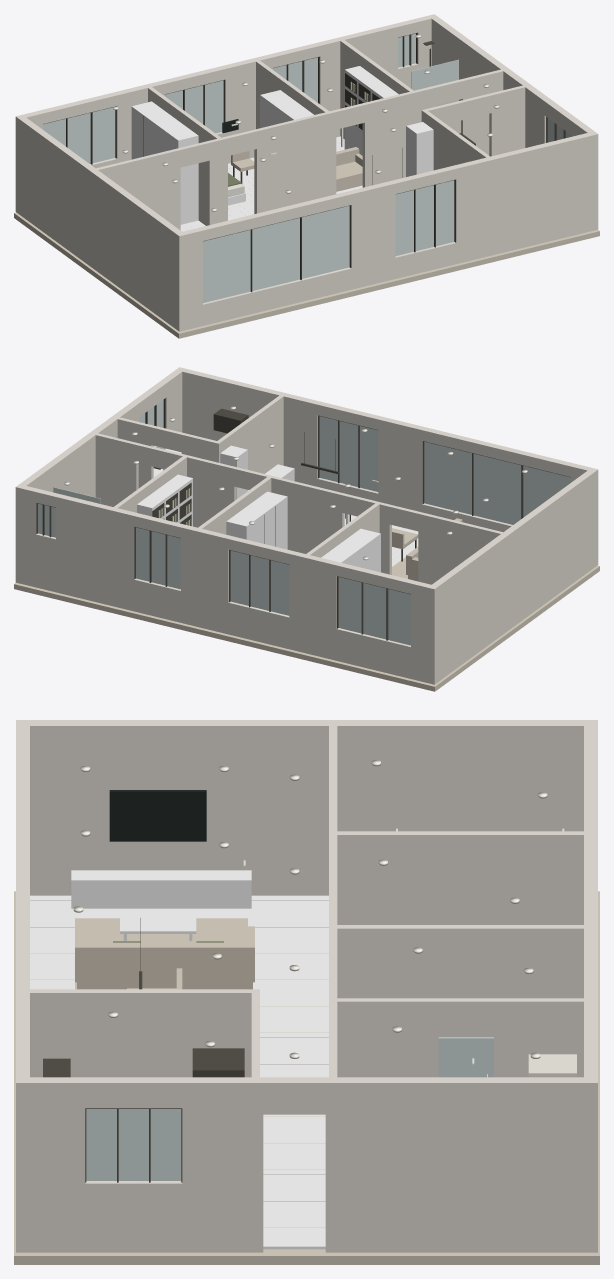
Rendered from qimu-home.glb.
3 renders of one model, top to bottom at view 1: azimuth 30°, elevation 25°; view 2: azimuth 150°, elevation 25°; view 3: azimuth 270°, elevation 25°, orthographic. The views are drawn at different scales.
Visible parts, largest first — view 1: W03, W01.006, WIN01 glazing, W05.004, foundation, W05.006, W01.003, J01, W05, WIN02 glazing, W01.001, W02.009 (+37 smaller); view 2: W03, W02.009, WIN01 glazing, W01.006, W02.006, W02.003, foundation, W01.003, WIN03 glazing, W05.004, WIN02 glazing, W05 (+40 smaller); view 3: W03, W04.005, W06, R07 floor, W07, W09, W08, W04.003, W04, foundation, W04.001, J05 (+19 smaller).
Part boxes in pixels (<box>): W03: <box>19,117,181,328</box>; W01.006: <box>453,131,598,263</box>; WIN01 glazing: <box>203,206,349,302</box>; W05.004: <box>254,110,336,213</box>; foundation: <box>14,212,599,338</box>; W05.006: <box>362,86,435,187</box>; W01.003: <box>348,180,395,289</box>; J01: <box>131,101,198,224</box>; W05: <box>96,148,180,230</box>; WIN02 glazing: <box>395,180,454,255</box>; W01.001: <box>203,268,351,325</box>; W02.009: <box>316,24,397,137</box>; W03: <box>432,470,594,681</box>; W02.009: <box>56,494,137,611</box>; WIN01 glazing: <box>424,441,570,524</box>; W01.006: <box>176,367,320,486</box>; W02.006: <box>181,524,231,634</box>; W02.003: <box>289,551,339,660</box>; foundation: <box>14,565,599,691</box>; W01.003: <box>378,416,425,512</box>; WIN03 glazing: <box>338,577,410,645</box>; W05.004: <box>263,474,344,553</box>; WIN02 glazing: <box>319,416,378,491</box>; W05: <box>418,512,502,584</box>; W03: <box>30,720,583,895</box>; W04.005: <box>325,1077,583,1252</box>; W06: <box>337,831,583,924</box>; R07 floor: <box>260,895,328,1249</box>; W07: <box>337,925,583,998</box>; W09: <box>30,989,259,1077</box>; W08: <box>337,998,583,1077</box>; W04.003: <box>182,1077,263,1252</box>; W04: <box>30,1077,85,1252</box>; foundation: <box>14,891,599,1264</box>; W04.001: <box>85,1181,182,1252</box>; J05: <box>71,870,251,908</box>.
Bounding box in the file's own units: 12.46 × 2.88 × 8.46.
